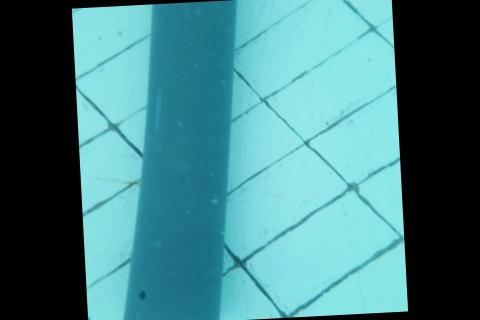kebocoran: (137, 289, 147, 300)
